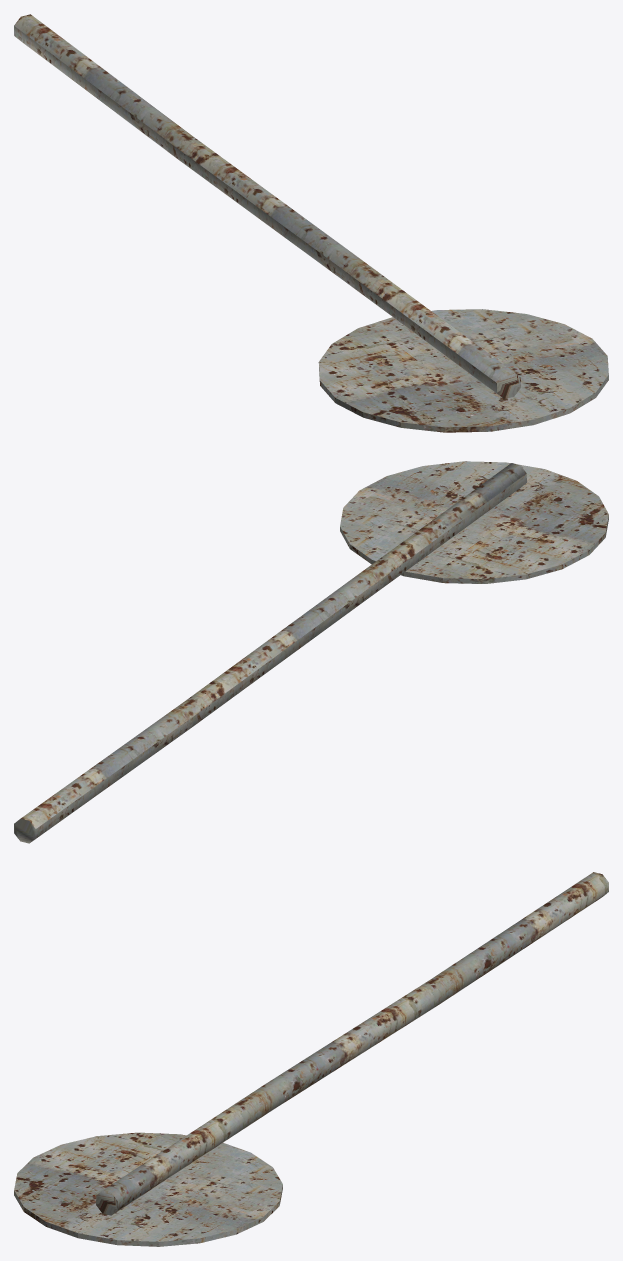
The model's file is sign_2.obj.
3 renders of one model, top to bottom at view 1: azimuth 30°, elevation 25°; view 2: azimuth 150°, elevation 25°; view 3: azimuth 330°, elevation 25°, orthographic. The views are drawn at different scales.
Visible parts, largest first — view 1: Cylinder05; view 2: Cylinder05; view 3: Cylinder05.
Part boxes in pixels (box(x1,y1,x2,y2)): Cylinder05: box(14, 14, 608, 432); Cylinder05: box(14, 461, 608, 843); Cylinder05: box(14, 872, 608, 1246).
Size of the model in its own units: 1.51 by 0.2558 by 5.53.
Materials: 2 (2 with a texture image).
